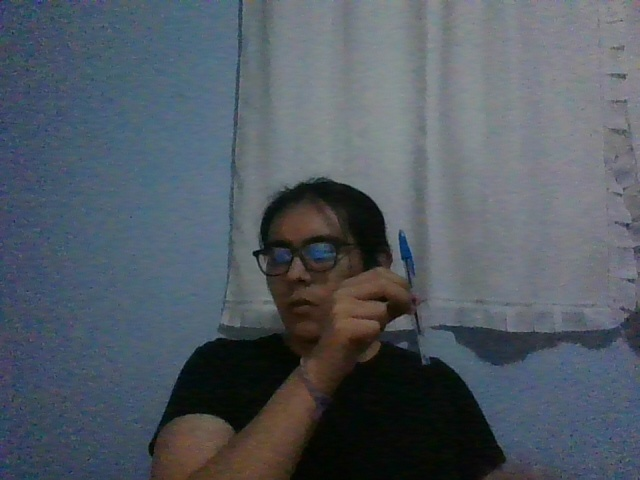pluma: (396, 228, 431, 366)
